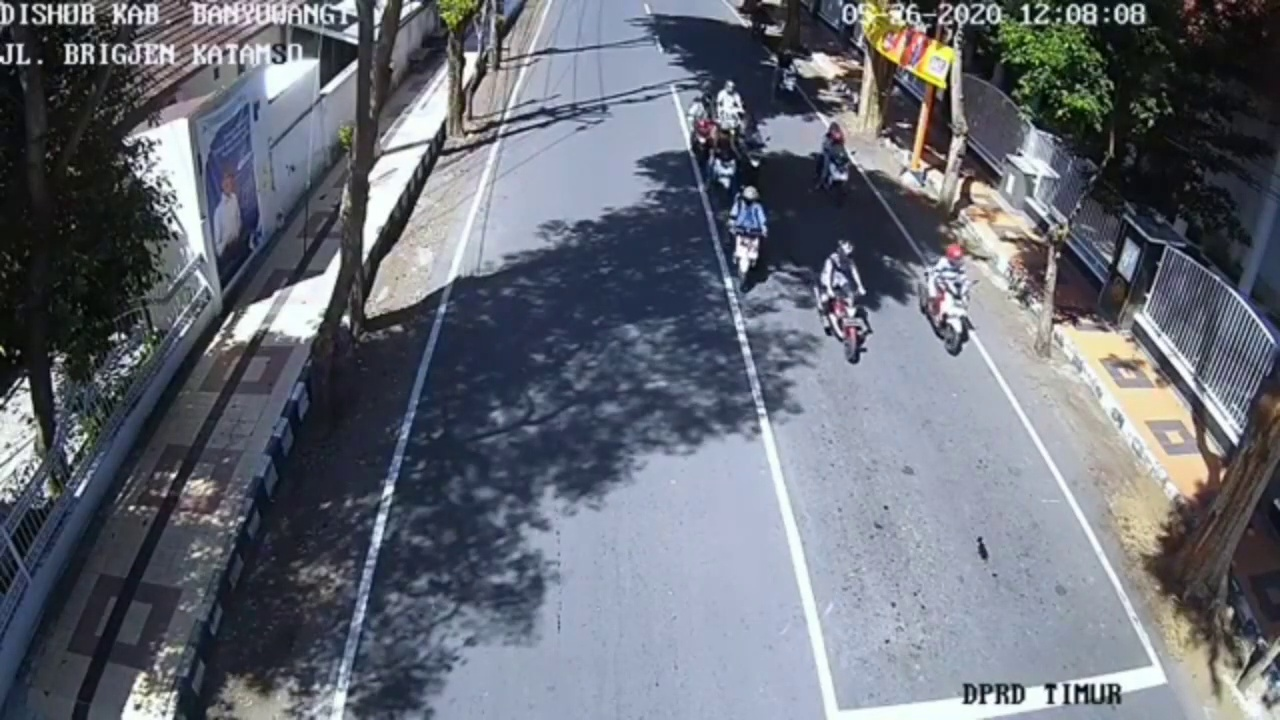motorbike: (816, 239, 867, 362), (920, 243, 971, 355), (722, 184, 766, 299), (817, 123, 851, 196), (718, 79, 747, 149), (686, 93, 712, 164), (711, 133, 737, 196)
